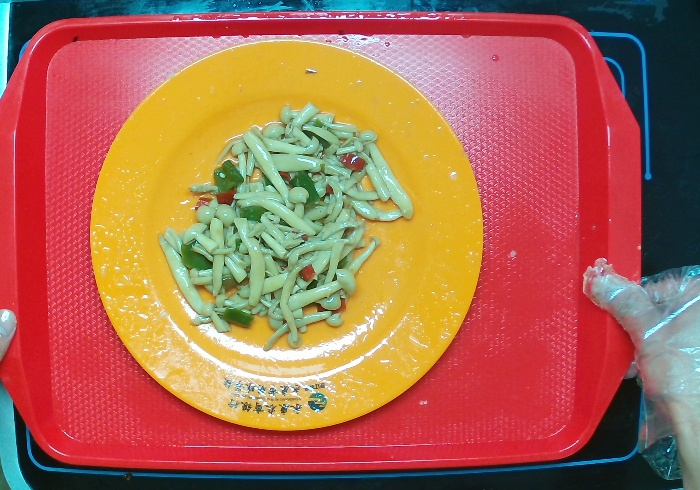YKMZ-Ju_Se_Mian_Pan: (86, 37, 487, 433)
